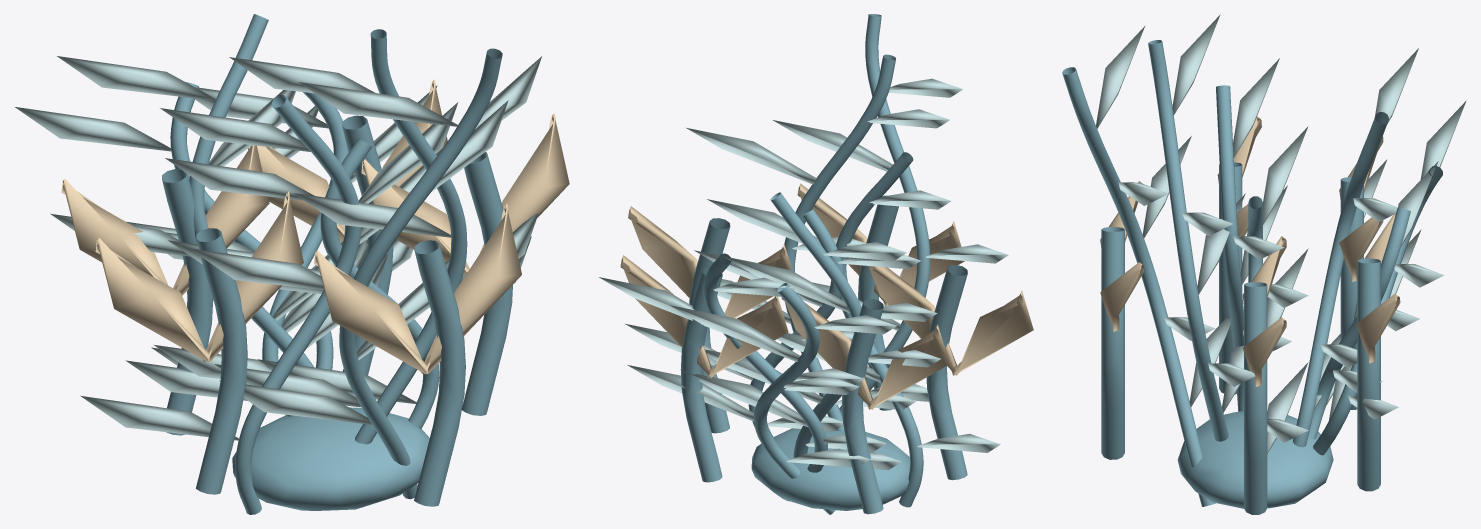
Rendered from bio_aquatic_frond_02_far.glb.
3 renders of one model, left to right at view 1: azimuth 30°, elevation 25°; view 2: azimuth 150°, elevation 25°; view 3: azimuth 270°, elevation 25°, orthographic. The views are drawn at different scales.
Visible parts, largest first — view 1: Holdfast, Ruffled aquatic blade.010, Secondary fan lobe.004, Secondary fan lobe.008, Ruffled aquatic blade.020, Ruffled aquatic blade.025, Flexible stipe.002, Branching support.002, Ruffled aquatic blade.005, Flexible stipe.004, Branching support.004, Secondary fan lobe.002 (+13 smaller); view 2: Holdfast, Ruffled aquatic blade.030, Ruffled aquatic blade.005, Secondary fan lobe.008, Ruffled aquatic blade.015, Ruffled aquatic blade.020, Secondary fan lobe.002, Ruffled aquatic blade.010, Branching support.001, Branching support.003, Secondary fan lobe.006, Flexible stipe.002 (+13 smaller); view 3: Holdfast, Flexible stipe.002, Flexible stipe.005, Flexible stipe.001, Branching support.002, Branching support, Branching support.003, Ruffled aquatic blade.025, Ruffled aquatic blade.010, Ruffled aquatic blade, Flexible stipe.004, Ruffled aquatic blade.030 (+13 smaller).
Boxes of the visible parts, x1,y1,x2,y2 form: Holdfast: (232,407,429,510); Ruffled aquatic blade.010: (189,82,508,424); Secondary fan lobe.004: (314,204,521,374); Secondary fan lobe.008: (95,192,303,362); Ruffled aquatic blade.020: (80,102,458,440); Ruffled aquatic blade.025: (214,56,541,407); Flexible stipe.002: (339,48,502,499); Branching support.002: (414,240,465,506); Ruffled aquatic blade.005: (50,56,366,378); Flexible stipe.004: (235,94,361,514); Branching support.004: (196,228,247,494); Secondary fan lobe.002: (61,145,269,295); Holdfast: (751,428,910,510); Ruffled aquatic blade.030: (627,305,896,467); Ruffled aquatic blade.005: (705,242,940,451); Secondary fan lobe.008: (868,266,1033,375); Ruffled aquatic blade.015: (599,277,901,470); Ruffled aquatic blade.020: (707,190,1000,452); Secondary fan lobe.002: (781,297,949,409); Ruffled aquatic blade.010: (773,78,1008,401); Branching support.001: (842,299,883,514); Branching support.003: (680,267,722,482); Secondary fan lobe.006: (620,255,788,378); Flexible stipe.002: (839,14,930,415); Holdfast: (1177,411,1333,508); Flexible stipe.002: (1062,67,1215,506); Flexible stipe.005: (1148,40,1228,441); Flexible stipe.001: (1292,112,1388,447); Branching support.002: (1101,227,1124,459); Branching support: (1244,282,1267,514); Branching support.003: (1357,258,1380,491); Ruffled aquatic blade.025: (1172,14,1255,412); Ruffled aquatic blade.010: (1096,26,1230,406); Ruffled aquatic blade: (1263,126,1308,453); Flexible stipe.004: (1216,85,1243,411); Ruffled aquatic blade.030: (1329,100,1466,419).
Bounding box in the file's own units: 1.85 × 1.89 × 1.56.
